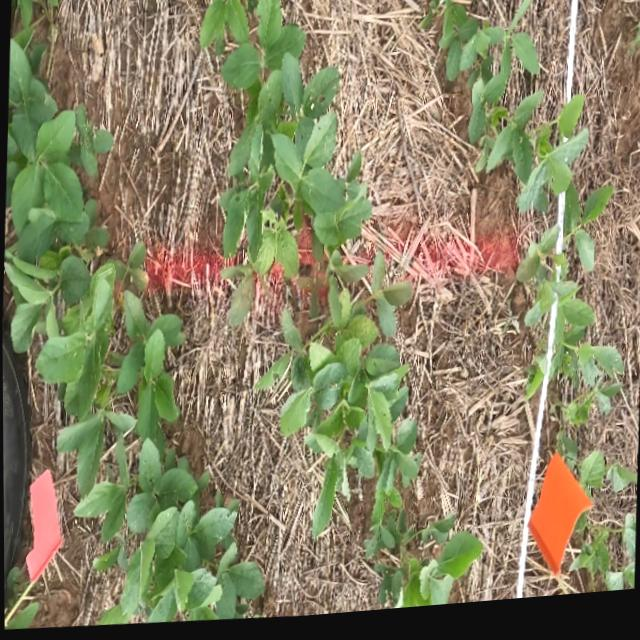soy_plant: (201, 0, 481, 615), (3, 0, 262, 626), (423, 0, 623, 435), (570, 524, 635, 602), (557, 443, 636, 504), (4, 602, 37, 628)
